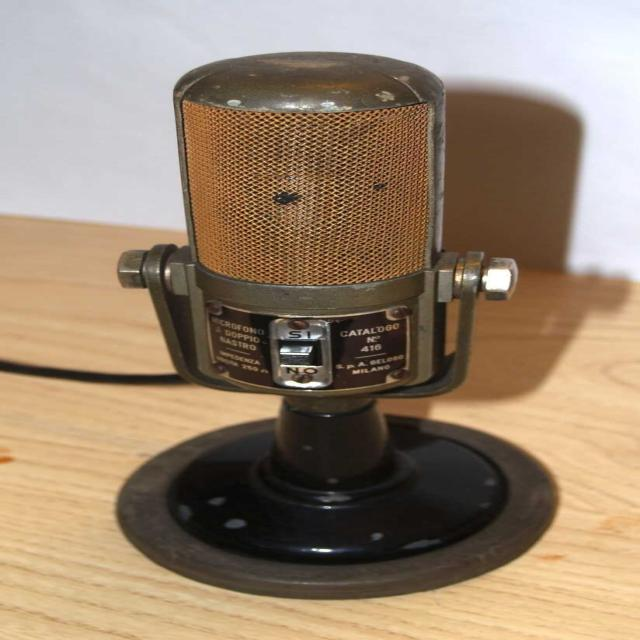microphone: (97, 56, 553, 596)
